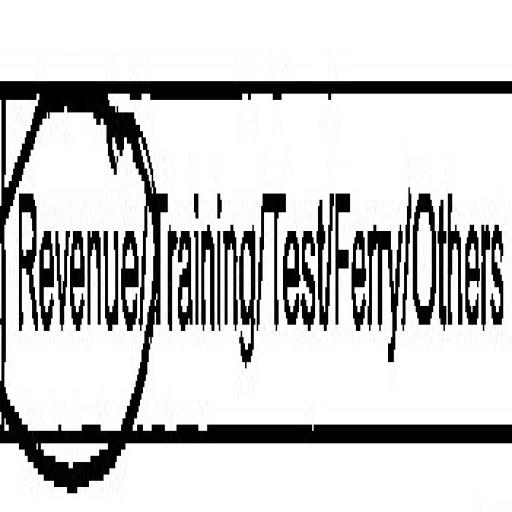check: (0, 21, 148, 512)
